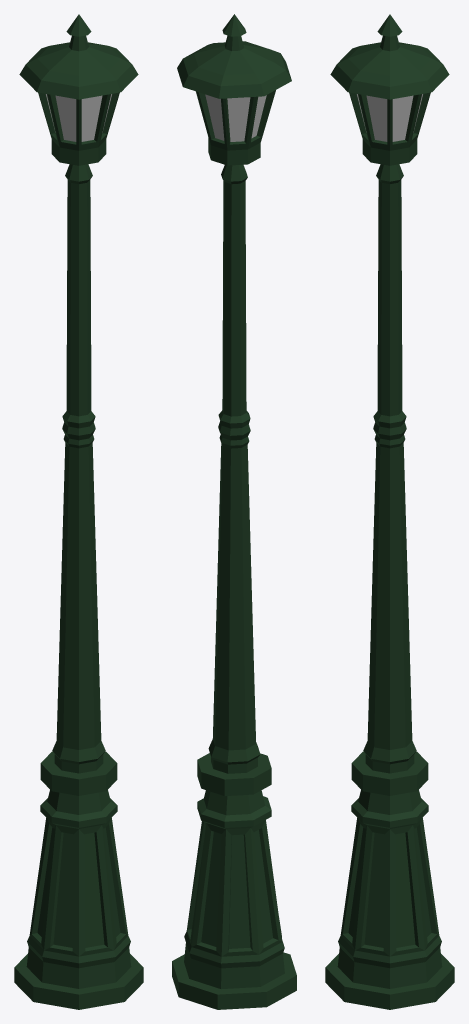
The model's file is Streetlight_Single.glb.
The picture shows the model from 3 angles, left to right: view 1: azimuth 90°, elevation 25°; view 2: azimuth 210°, elevation 25°; view 3: azimuth 270°, elevation 25°; orthographic projection.
Parts seen in each view (by area): view 1: Streetlight_Single; view 2: Streetlight_Single; view 3: Streetlight_Single.
Boxes of the visible parts, box(x1,y1,x2,y2) form: Streetlight_Single: box(14, 14, 143, 1009); Streetlight_Single: box(172, 14, 296, 1009); Streetlight_Single: box(325, 14, 454, 1009).
Size of the model in its own units: 0.1316 by 1.09 by 0.1316.
